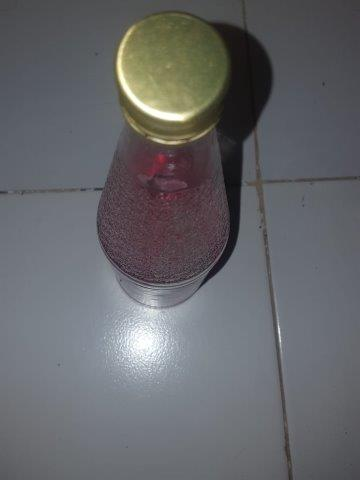botolkaca: (95, 12, 232, 307)
